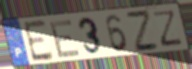3: (78, 15, 106, 58)
6: (105, 13, 129, 54)
E: (21, 18, 56, 64), (49, 17, 83, 60)
Z: (124, 10, 161, 54), (153, 8, 184, 48)
